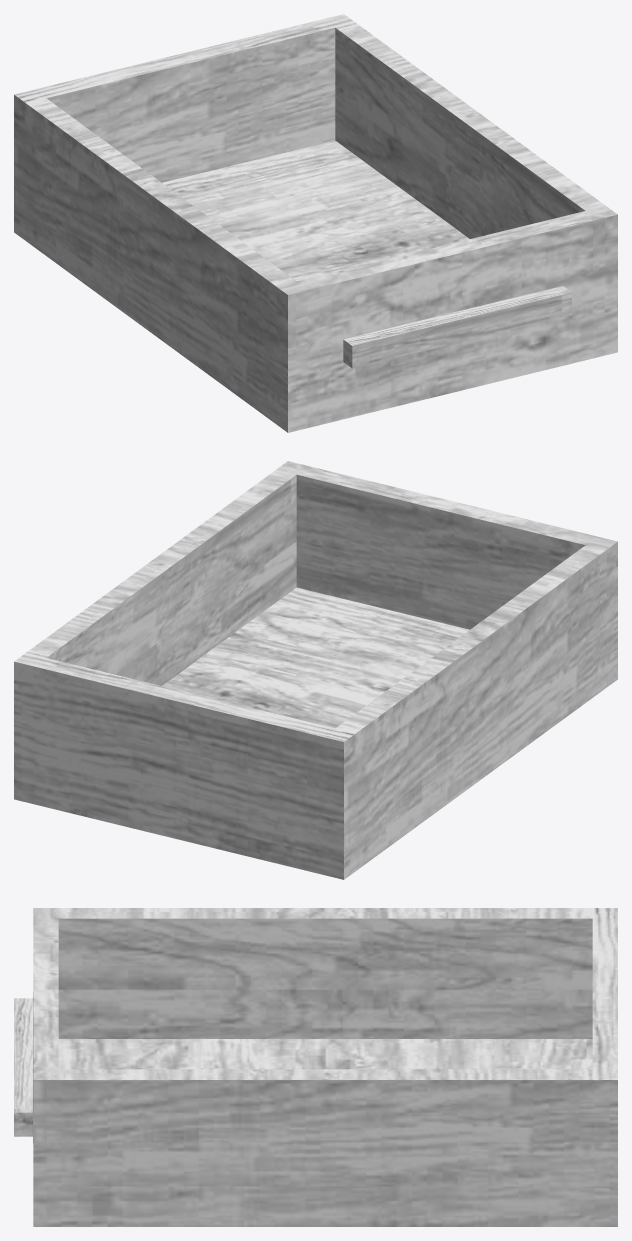
File: Drawer_b60b854f.obj
The picture shows the model from 3 angles, top to bottom: view 1: azimuth 30°, elevation 25°; view 2: azimuth 150°, elevation 25°; view 3: azimuth 270°, elevation 25°; orthographic projection. The views are drawn at different scales.
Parts seen in each view (by area): view 1: DrawerMesh_f38d0787; view 2: DrawerMesh_f38d0787; view 3: DrawerMesh_f38d0787.
Part boxes in pixels (x1,y1,x2,y2): DrawerMesh_f38d0787: [14, 14, 617, 432]; DrawerMesh_f38d0787: [14, 461, 617, 879]; DrawerMesh_f38d0787: [14, 908, 617, 1226].
Size of the model in its own units: 0.3185 by 0.1271 by 0.4732.
